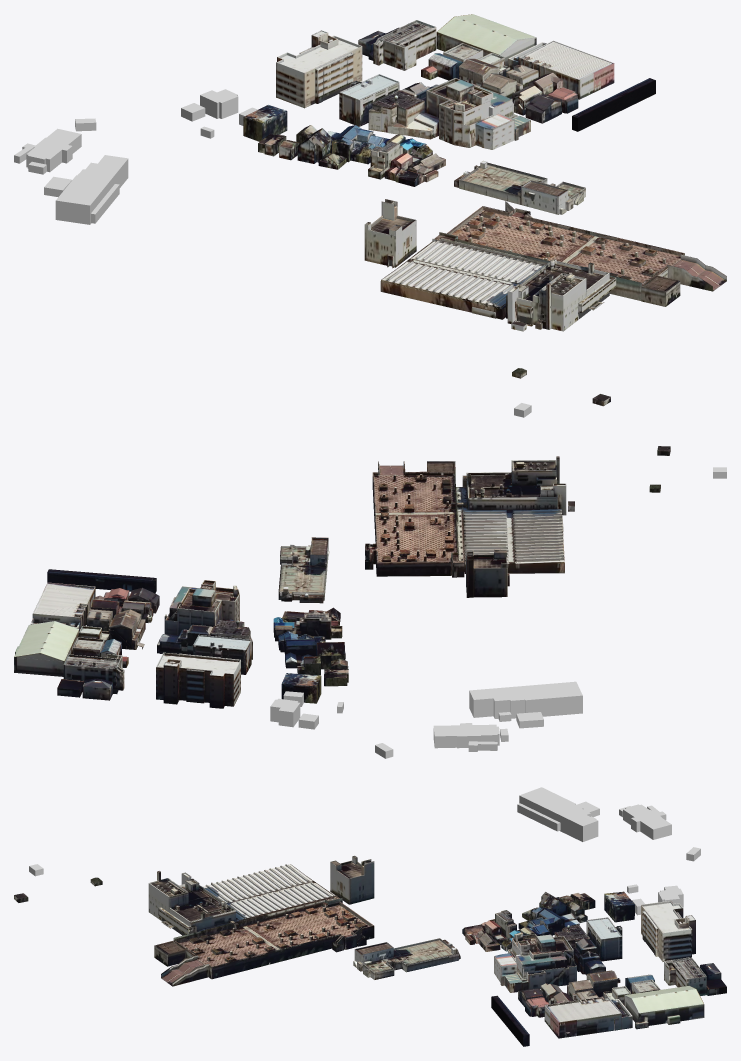
The model's file is station-1-0-packed.glb.
3 renders of one model, top to bottom at view 1: azimuth 30°, elevation 25°; view 2: azimuth 150°, elevation 25°; view 3: azimuth 270°, elevation 25°, orthographic. The views are drawn at different scales.
Size of the model in its own units: 265 by 23.2 by 338.
5 materials, 4 textured.
